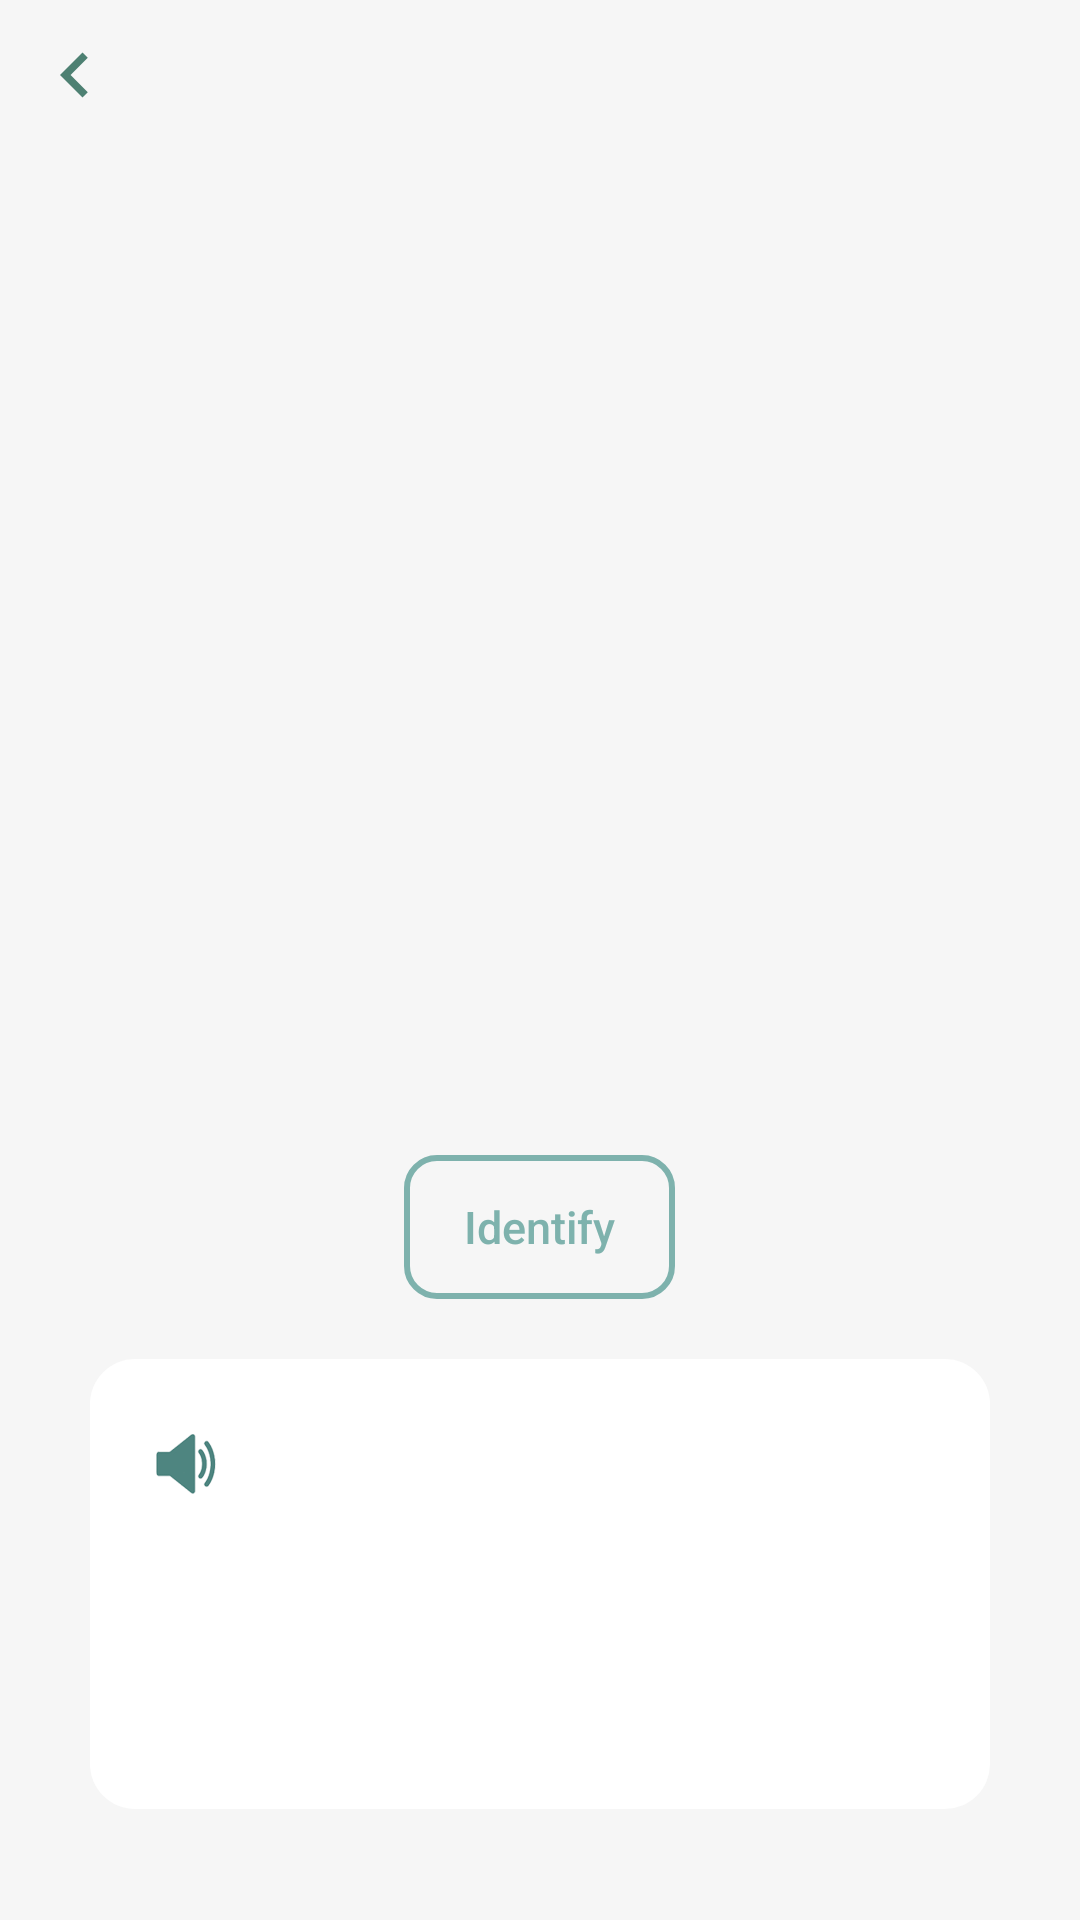

Icons on this 1080px x 1920px Android screen, each with its box as (x1, y1, x2, y2):
keyboard arrow left: (60, 52, 88, 98)
voice: (156, 1434, 216, 1494)
